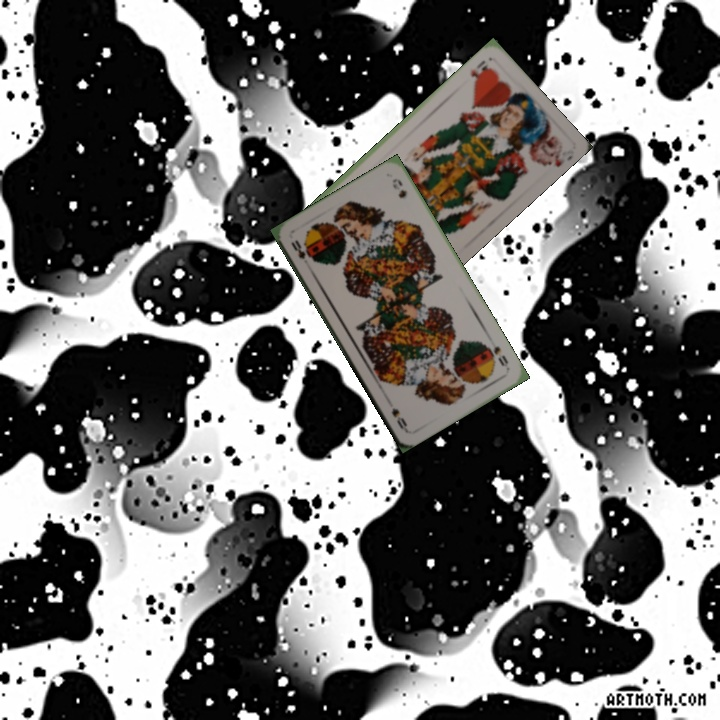HO: (465, 56, 493, 80)
SO: (287, 235, 312, 262), (489, 342, 511, 369)
